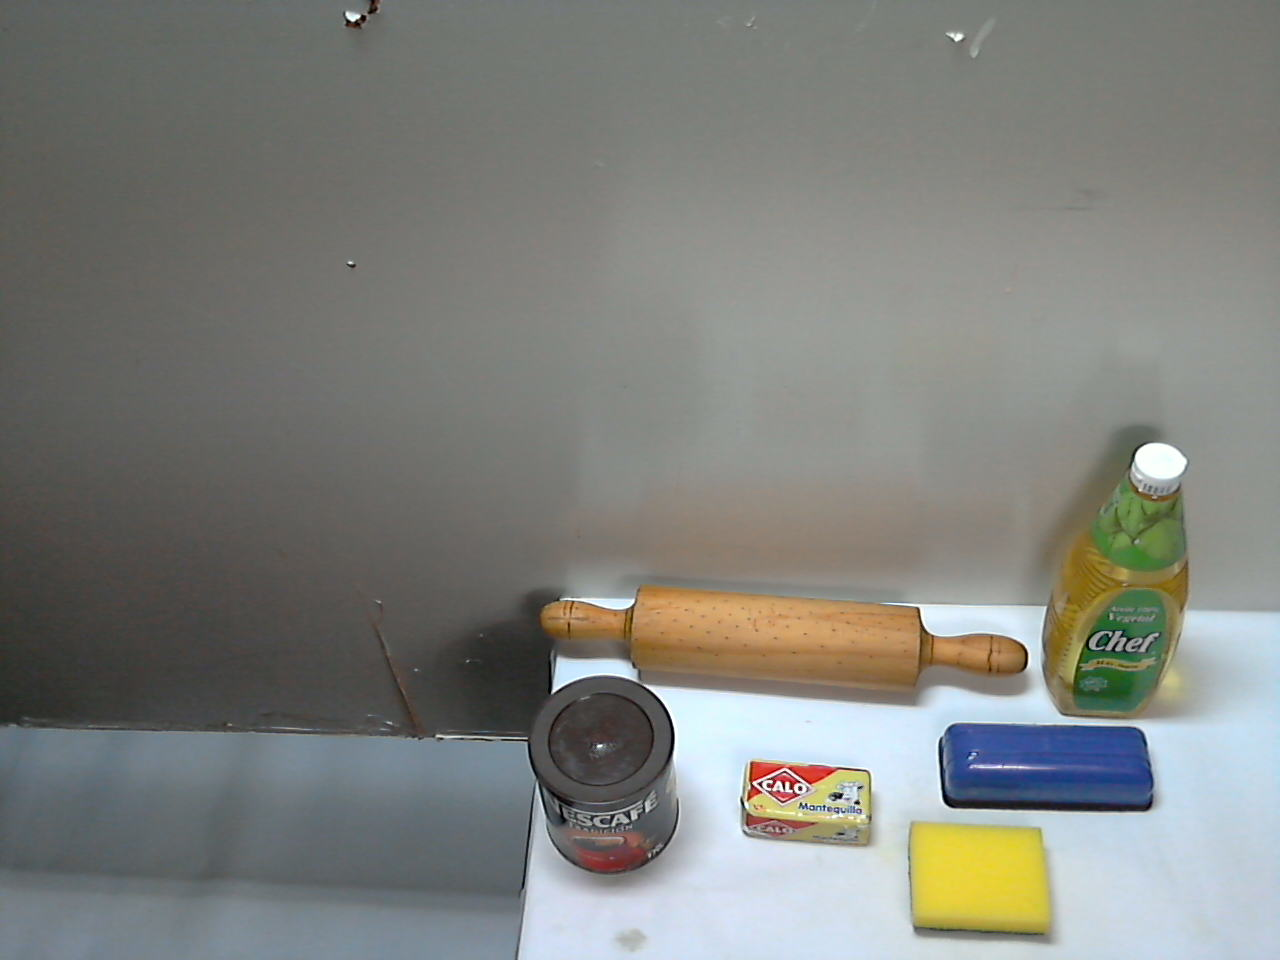confort: (899, 545, 1212, 920)
greda: (463, 604, 682, 809)
jabon: (761, 797, 898, 914)
jugoind: (805, 600, 894, 753)
lata: (700, 591, 796, 754)
mostaza: (602, 767, 705, 928)
